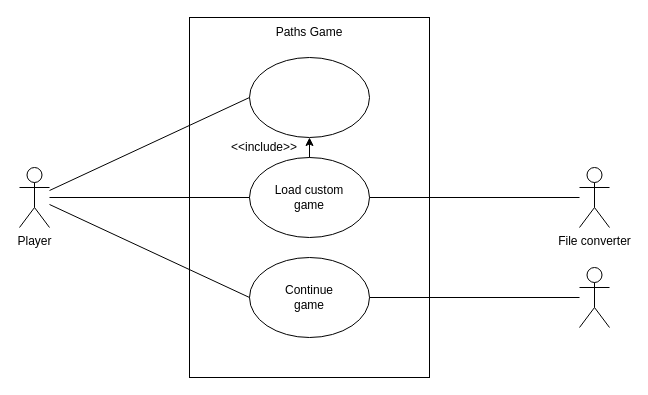
This 648x395 diagram has some shape labels left out. The centre of each missing label's shape, as x and y in pixels:
Save files: the point at 594,297
Start new game: the point at 309,97
